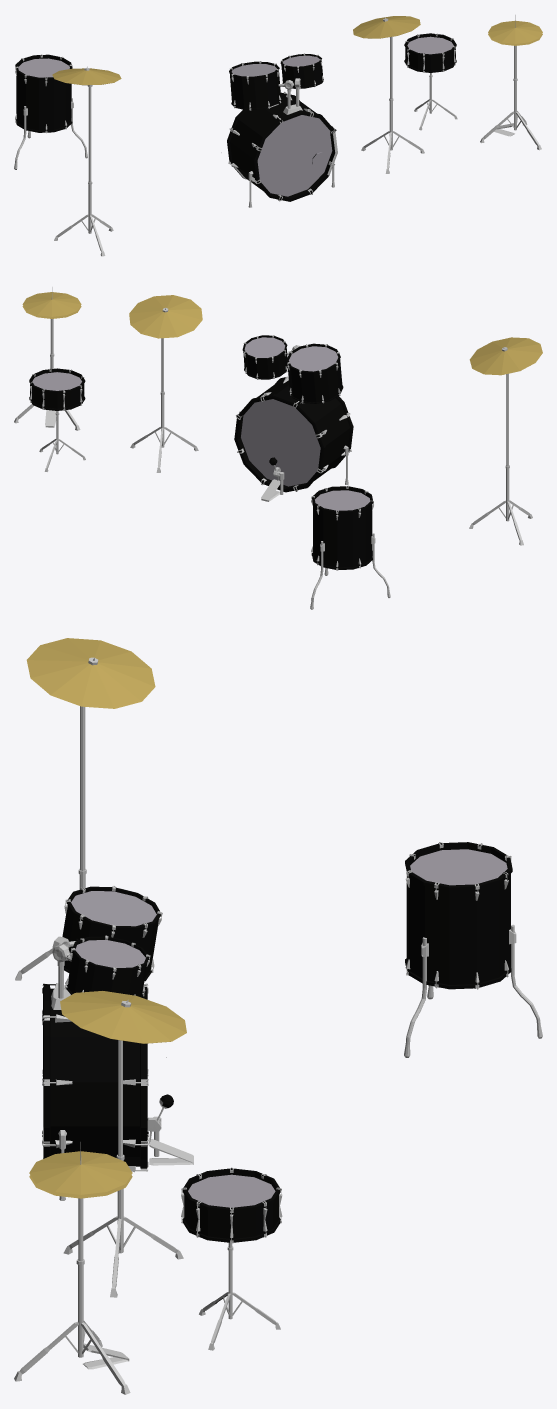
The model's file is DRUMSD.fbx.
3 views of the same model, one above another, from view 1: azimuth 30°, elevation 25°; view 2: azimuth 150°, elevation 25°; view 3: azimuth 270°, elevation 25° (orthographic). The views are drawn at different scales.
Visible parts, largest first — view 1: Drums B.009, Drums B.008, Drums B.005, Drums B.001, Drums B.015, Drums B.004; view 2: Drums B.009, Drums B.008, Drums B.004, Drums B.001, Drums B.005, Drums B.015; view 3: Drums B.009, Drums B.008, Drums B.001, Drums B.005, Drums B.004, Drums B.015.
Part boxes in pixels (x1,y1,x2,y2): Drums B.009: [221, 53, 337, 207]; Drums B.008: [14, 54, 87, 169]; Drums B.005: [404, 33, 457, 130]; Drums B.001: [52, 66, 121, 256]; Drums B.015: [480, 15, 542, 150]; Drums B.004: [353, 16, 424, 173]; Drums B.009: [234, 335, 353, 501]; Drums B.008: [310, 485, 390, 609]; Drums B.004: [129, 295, 202, 472]; Drums B.001: [469, 337, 542, 545]; Drums B.005: [29, 368, 85, 471]; Drums B.015: [14, 287, 81, 430]; Drums B.009: [42, 886, 193, 1200]; Drums B.008: [404, 842, 542, 1057]; Drums B.001: [15, 638, 155, 980]; Drums B.005: [181, 1167, 282, 1350]; Drums B.004: [60, 991, 186, 1297]; Drums B.015: [14, 1142, 132, 1394].
Bounding box in the file's own units: 433 × 149 × 220.
